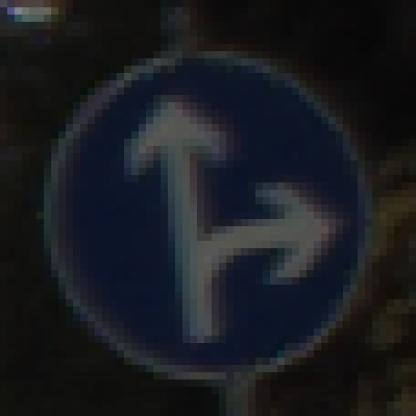Straight or Right: (38, 45, 381, 380)
